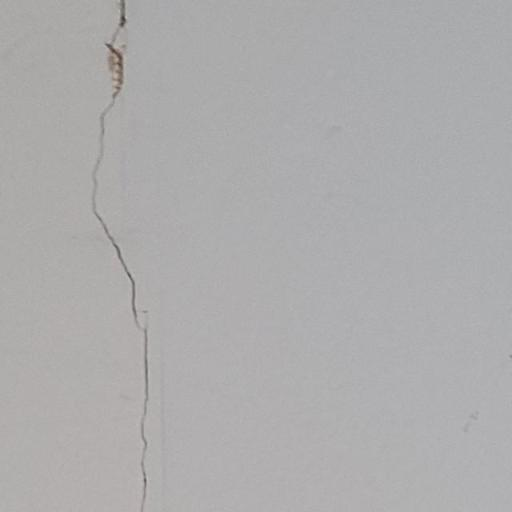severe crack: (87, 0, 160, 512)
